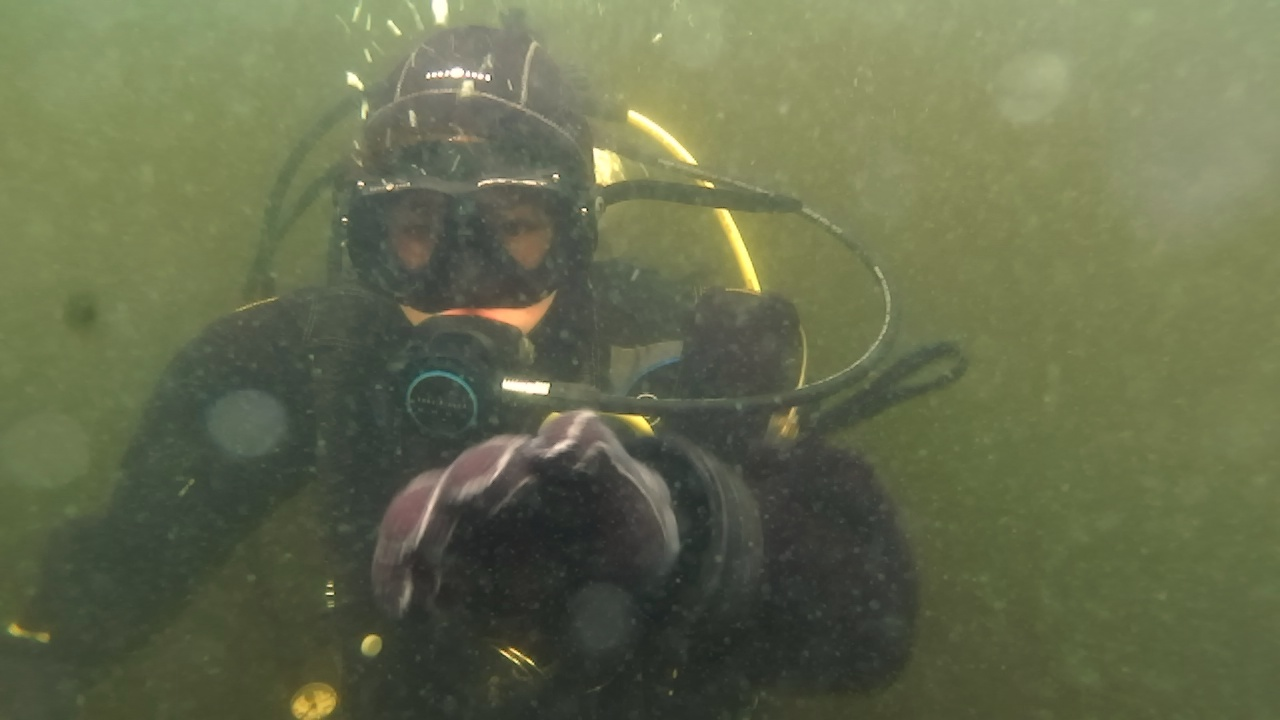Diver: (28, 6, 938, 702)
Hand: (362, 392, 744, 676)
Head: (316, 34, 634, 442)
